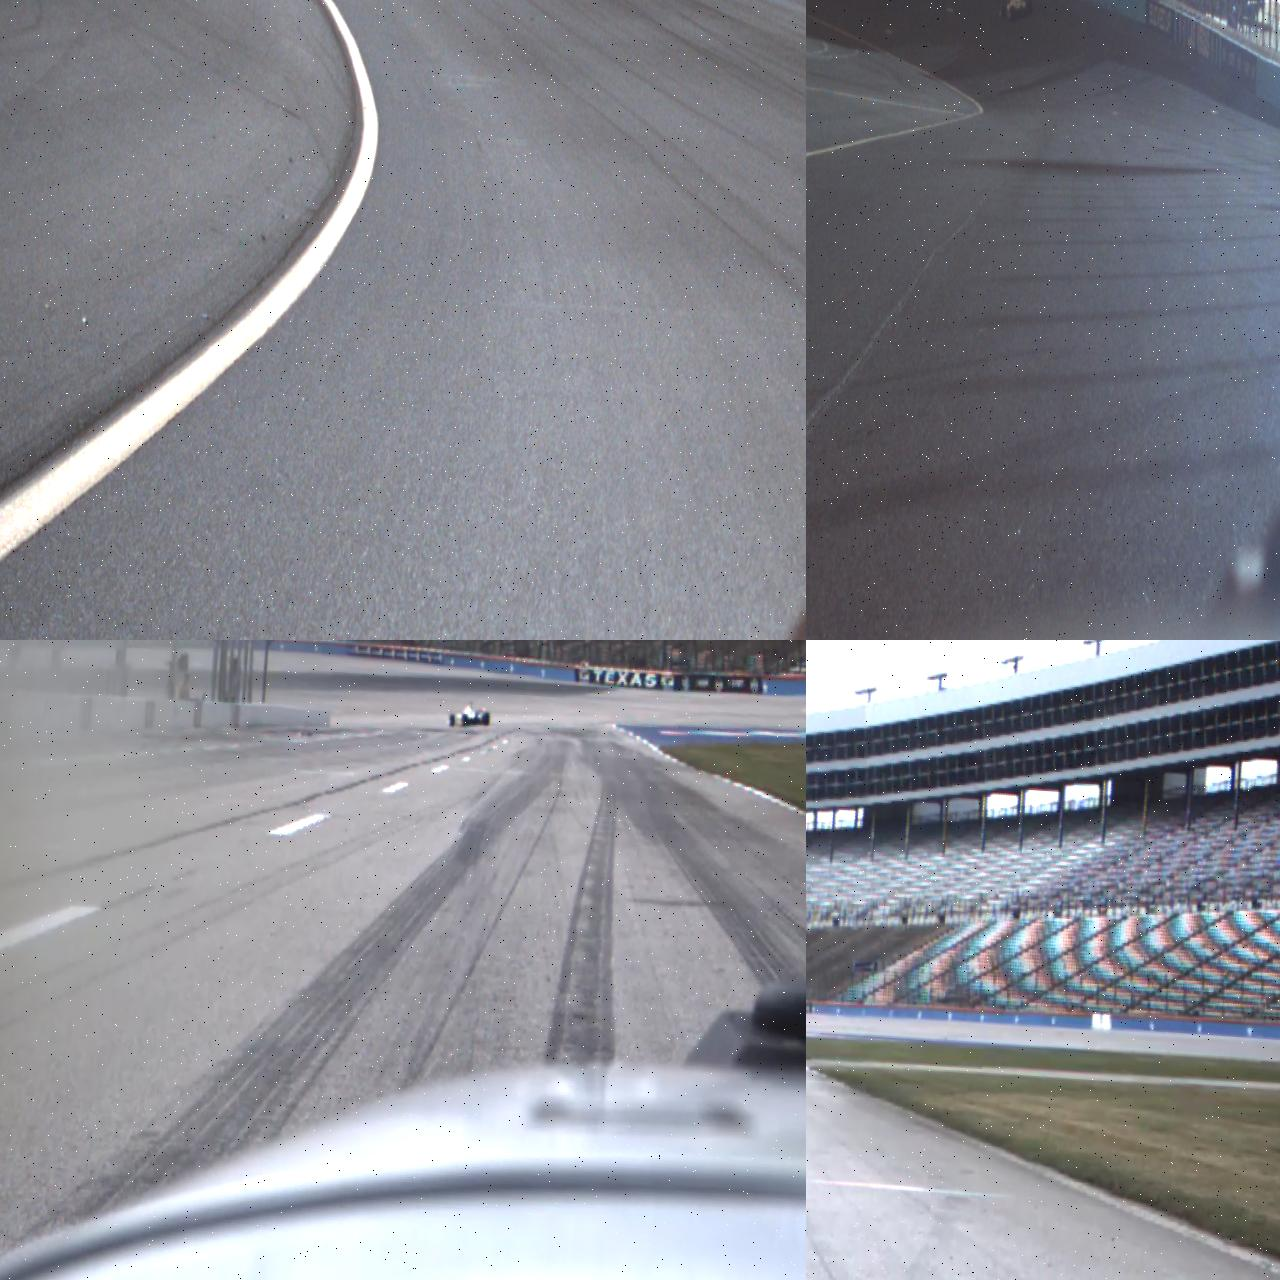AV: (448, 701, 491, 729), (998, 0, 1033, 22)
Wheel: (483, 712, 490, 726), (449, 714, 456, 727), (1008, 6, 1014, 21), (1027, 0, 1033, 15), (1000, 2, 1006, 18), (463, 714, 469, 727)
